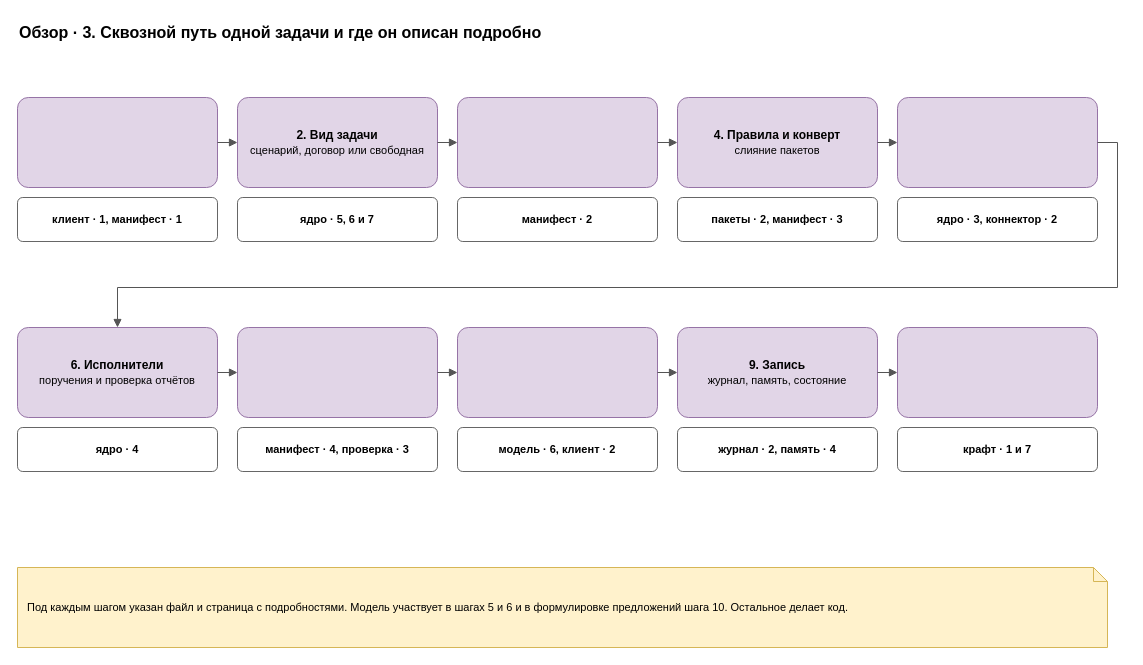
Image size: 1143x665. Some labels were removed from this diagram. Each missing label, with the centre of its shape:
"1. Триггер команда, расписание, событие" belongs at point (117, 142).
"10. Развитие детекторы, предложения, сводка" belongs at point (997, 372).
"3. Сбор и условие скрипт без модели" belongs at point (557, 142).
"5. Исполнение каждое действие через политику" belongs at point (997, 142).
"7. Проверка готовности возврат до предела, метка итога" belongs at point (337, 372).
"8. Решение человека одна кнопка или очередь" belongs at point (557, 372).
